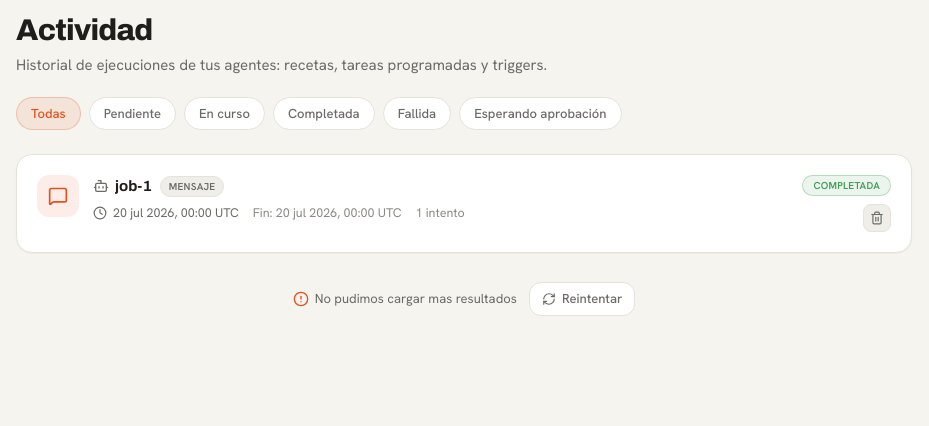
Test: /actividad con scroll infinito › si una pagina falla, la lista queda intacta y Reintentar carga la pagina
This screenshot has width=929, height=426.
Expected: the message shows "No pudimos cargar mas resultados", [315,290,517,307]
Click the button "Reintentar".
click(582, 299)  # box [529,282,635,316]
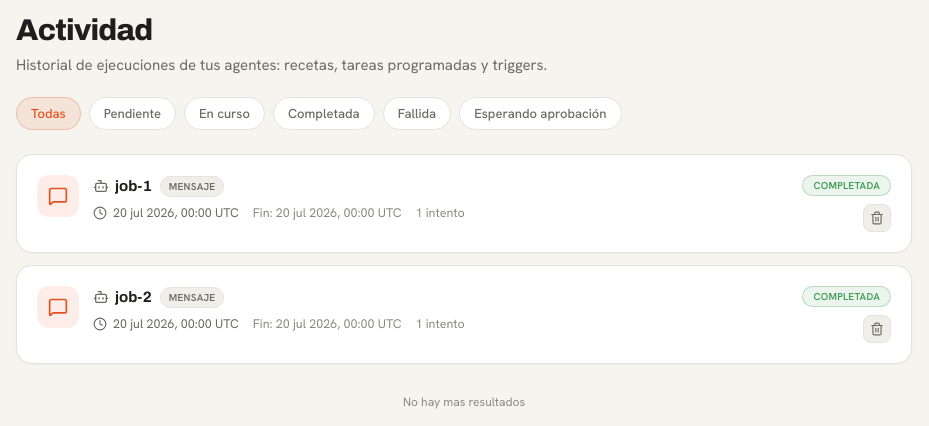
Now the button "Reintentar" is gone
